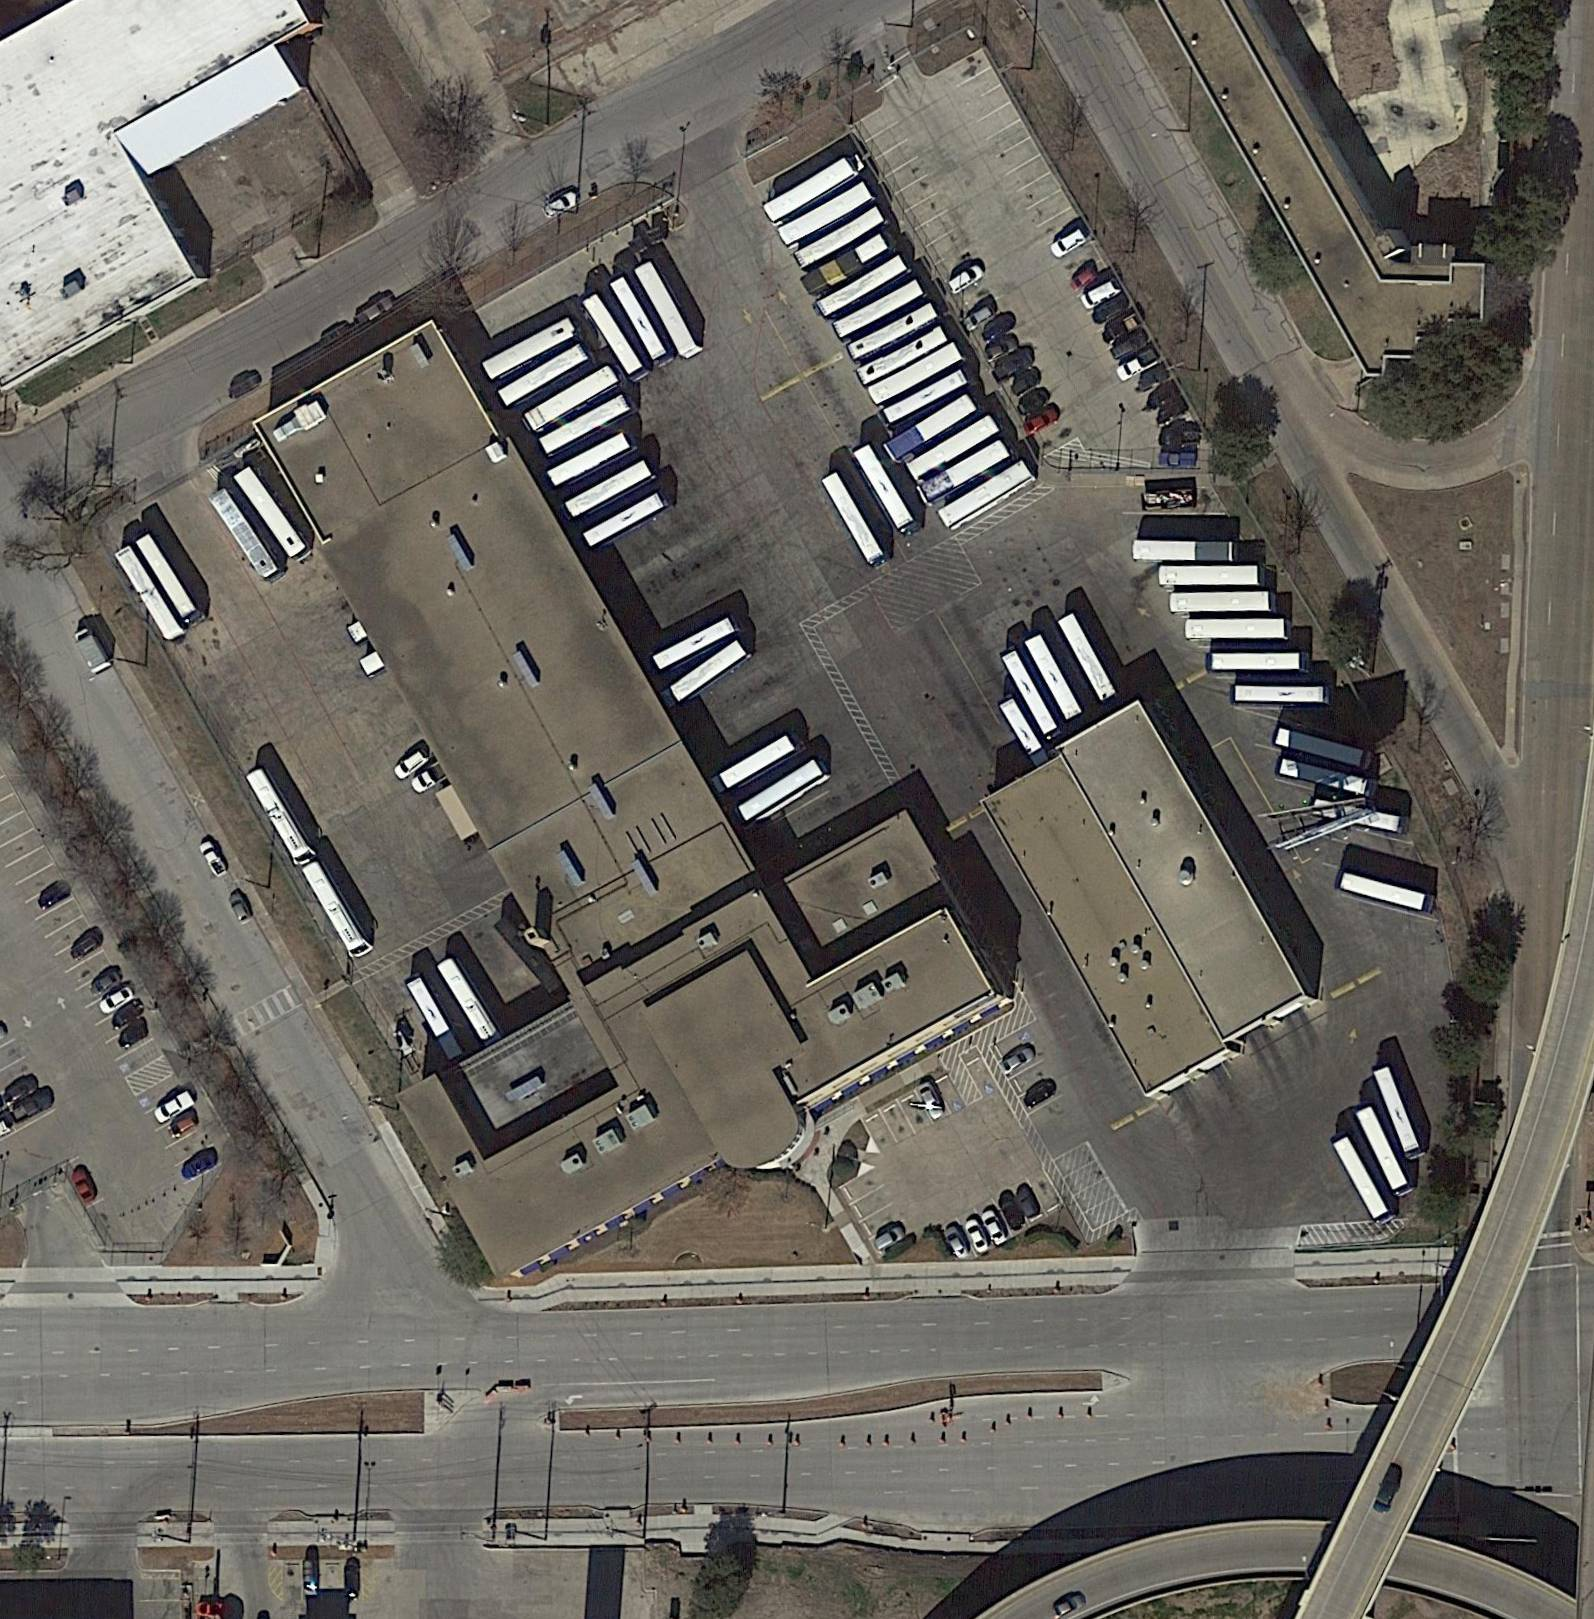large vehicle: (206, 485, 288, 589), (233, 463, 315, 564), (733, 751, 836, 831), (881, 389, 984, 468), (244, 762, 319, 869), (916, 433, 1021, 509), (936, 456, 1037, 535), (762, 153, 865, 230), (815, 249, 919, 325), (631, 258, 706, 363), (904, 409, 1007, 485), (777, 177, 881, 252), (300, 857, 374, 961), (867, 337, 971, 410), (996, 642, 1068, 747), (481, 312, 584, 383), (537, 390, 640, 461), (114, 545, 187, 645), (521, 362, 619, 436), (878, 366, 978, 438), (791, 201, 889, 274), (133, 531, 206, 629), (496, 339, 596, 410), (853, 440, 924, 539), (832, 276, 932, 346), (710, 728, 809, 798), (579, 289, 650, 386), (821, 470, 891, 568), (607, 272, 676, 371), (846, 299, 944, 367), (436, 954, 506, 1049), (853, 323, 951, 390), (800, 230, 895, 299), (561, 456, 655, 524), (649, 611, 745, 675), (1355, 1102, 1418, 1199), (666, 636, 753, 706), (581, 487, 671, 554), (403, 970, 467, 1064), (1330, 1131, 1394, 1223), (546, 428, 639, 491), (1055, 610, 1118, 703), (1021, 631, 1085, 722), (1372, 1062, 1428, 1163), (1336, 865, 1438, 917), (1273, 723, 1375, 771), (1276, 756, 1378, 802), (997, 691, 1053, 771), (1311, 794, 1406, 836), (1170, 589, 1278, 616), (1185, 616, 1292, 643), (1207, 648, 1313, 675), (1160, 563, 1267, 588), (1232, 683, 1333, 708), (1134, 537, 1234, 562)
small vehicle: (67, 621, 113, 678), (6, 1084, 57, 1127), (149, 1083, 198, 1127), (990, 343, 1040, 385), (1113, 344, 1163, 384), (537, 184, 584, 224), (107, 993, 151, 1035), (178, 1143, 222, 1184), (1079, 274, 1125, 313), (1099, 307, 1144, 346), (1108, 326, 1154, 364), (1089, 290, 1132, 329), (1018, 1073, 1061, 1112), (943, 259, 987, 297), (1020, 402, 1063, 440), (1047, 225, 1089, 262), (977, 308, 1020, 344), (996, 1042, 1040, 1077), (196, 836, 231, 880), (995, 1190, 1029, 1235), (35, 876, 75, 914), (939, 1221, 973, 1265), (87, 963, 125, 1002), (97, 982, 137, 1019), (67, 1164, 100, 1208), (391, 746, 430, 783), (916, 1078, 948, 1123), (1153, 393, 1191, 430), (115, 1017, 154, 1053), (1145, 377, 1182, 414), (1005, 364, 1043, 400), (979, 1208, 1011, 1250), (1014, 385, 1054, 418), (1013, 1181, 1044, 1223), (1065, 262, 1102, 297), (1134, 360, 1172, 394), (869, 1221, 907, 1255), (960, 300, 998, 334), (980, 333, 1019, 365), (1159, 425, 1205, 452), (65, 930, 100, 965), (963, 1216, 992, 1257), (165, 1111, 202, 1143), (226, 890, 255, 928), (1158, 447, 1198, 470)
